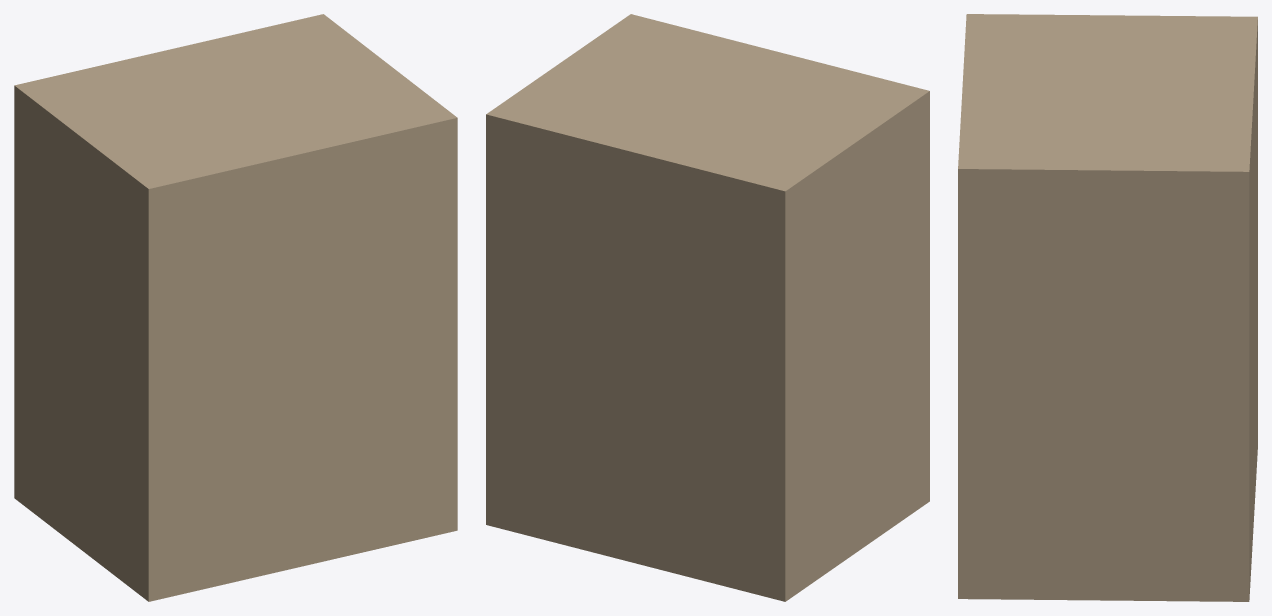
Rendered from bld_106796682.dae.
3 views of the same model, side by side, from view 1: azimuth 30°, elevation 25°; view 2: azimuth 150°, elevation 25°; view 3: azimuth 270°, elevation 25° (orthographic). The views are drawn at different scales.
Visible parts, largest first — view 1: bld_106796682; view 2: bld_106796682; view 3: bld_106796682.
Part boxes in pixels (x1,y1,x2,y2): bld_106796682: (14, 14, 457, 601); bld_106796682: (486, 14, 929, 601); bld_106796682: (958, 14, 1257, 601).
Bounding box in the file's own units: 6.3 × 5.06 × 8.
